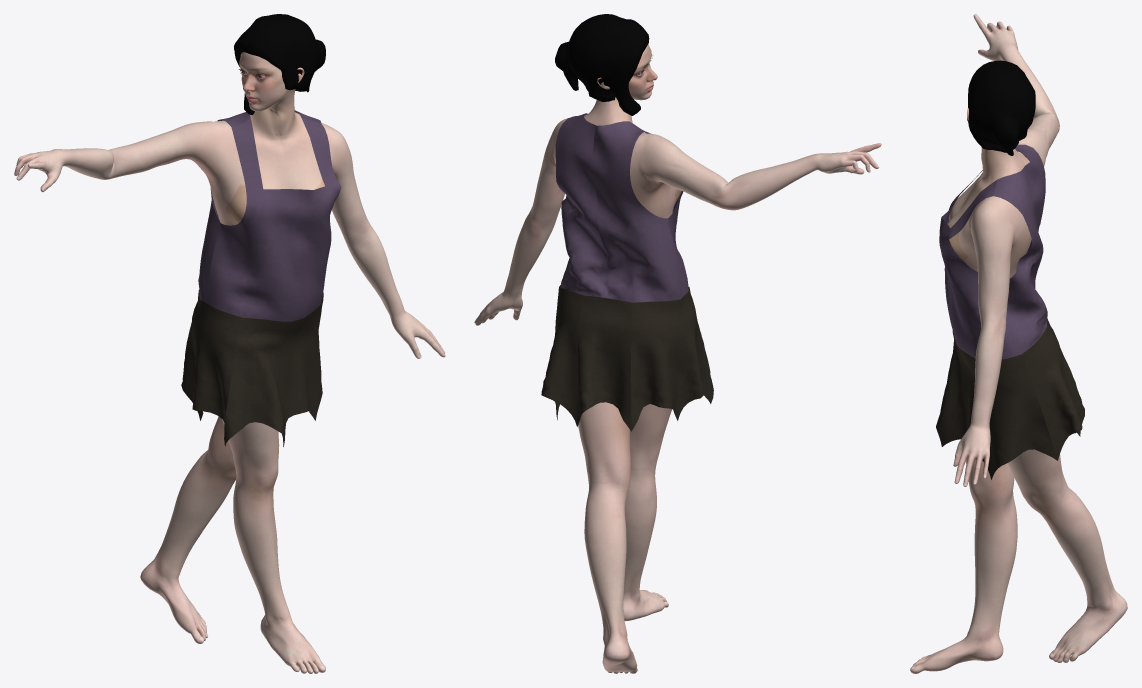
The model's file is Dramatic.obj.
3 renders of one model, left to right at view 1: azimuth 30°, elevation 25°; view 2: azimuth 150°, elevation 25°; view 3: azimuth 270°, elevation 25°, orthographic. The views are drawn at different scales.
Size of the model in its own units: 1226 by 1775 by 569.
